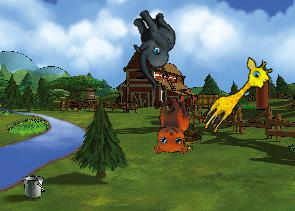bear: (144, 94, 195, 158)
elephant: (109, 2, 196, 91)
giraffe: (198, 52, 276, 142)
